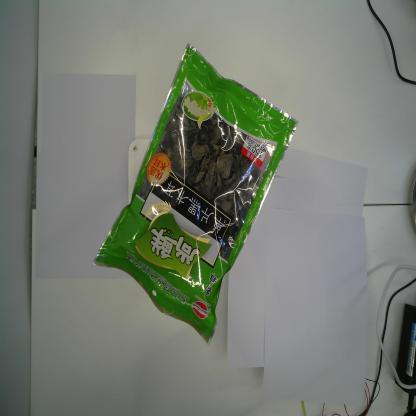Dried Food: (87, 40, 299, 349)
